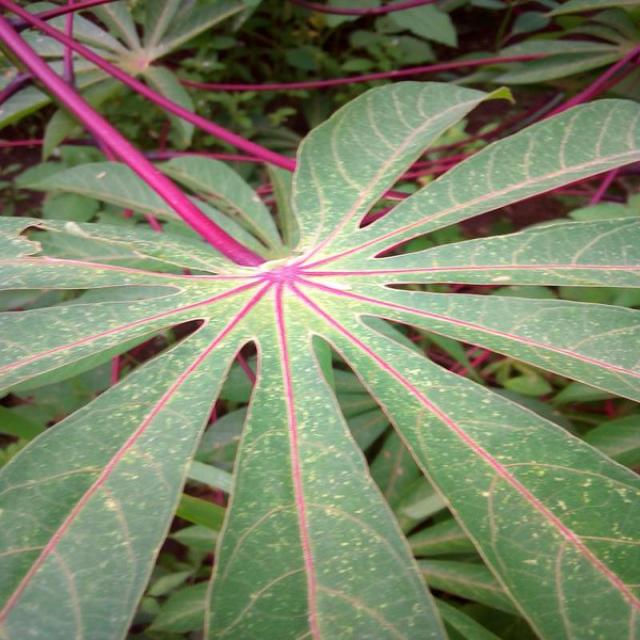cassava leaf: (2, 69, 640, 637)
